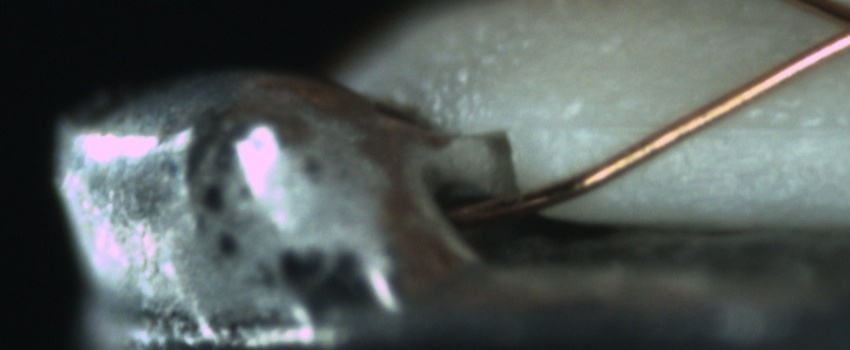CL: (812, 5, 850, 52)
DL: (532, 95, 850, 153)
